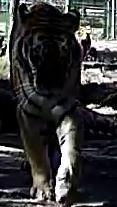tiger: (10, 0, 116, 206)
